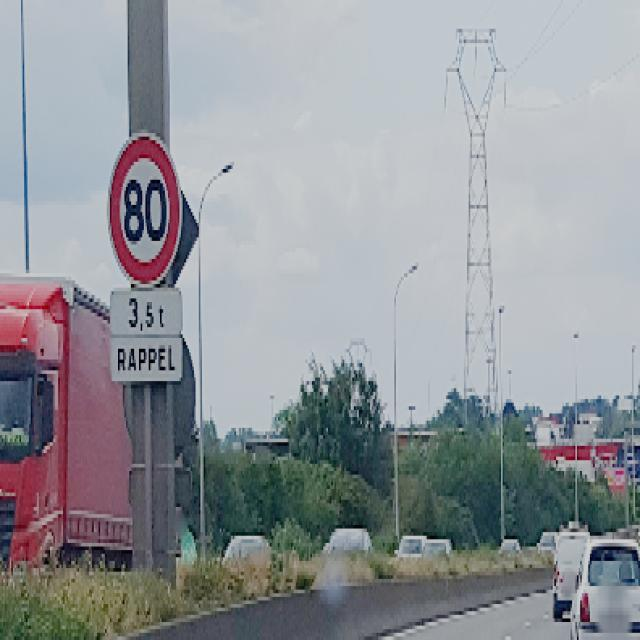speed_80: (107, 128, 184, 288)
